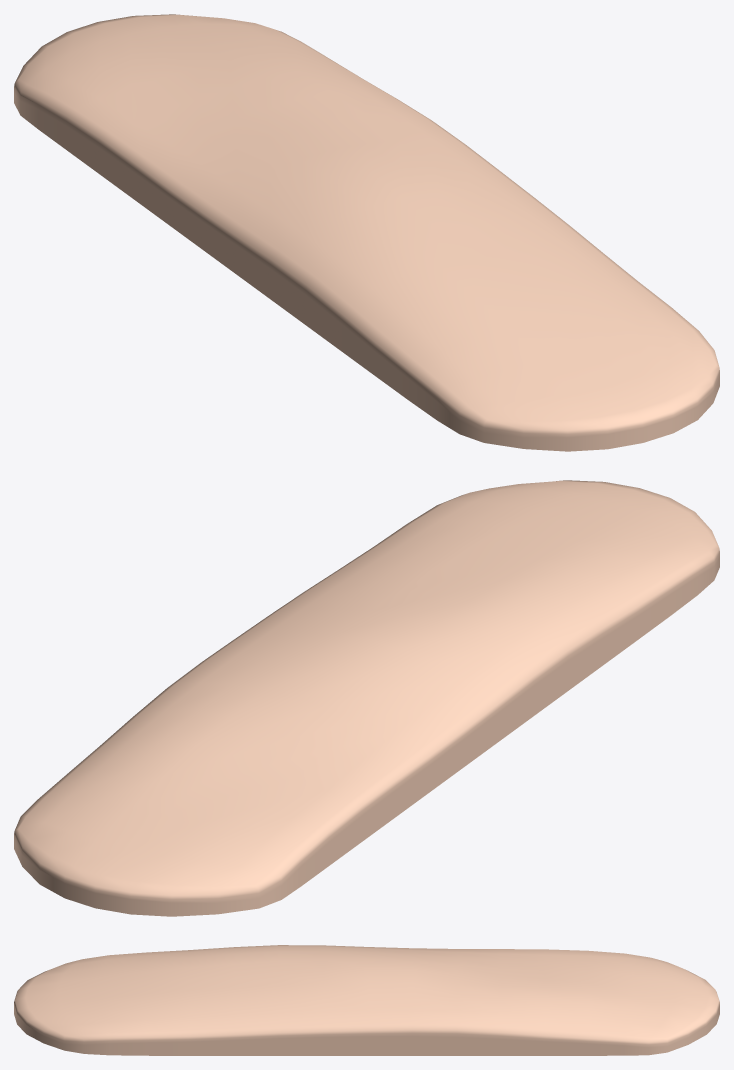
File: Sand Trap.fbx
3 renders of one model, top to bottom at view 1: azimuth 30°, elevation 25°; view 2: azimuth 150°, elevation 25°; view 3: azimuth 270°, elevation 25°, orthographic. The views are drawn at different scales.
Parts seen in each view (by area): view 1: Sand Trap.001; view 2: Sand Trap.001; view 3: Sand Trap.001.
Part boxes in pixels (x1=…): Sand Trap.001: x1=14, y1=14, x2=719, y2=451; Sand Trap.001: x1=14, y1=480, x2=719, y2=916; Sand Trap.001: x1=14, y1=945, x2=719, y2=1055.
Bounding box in the file's own units: 250 × 63.89 × 894.
1 material, 1 textured.
